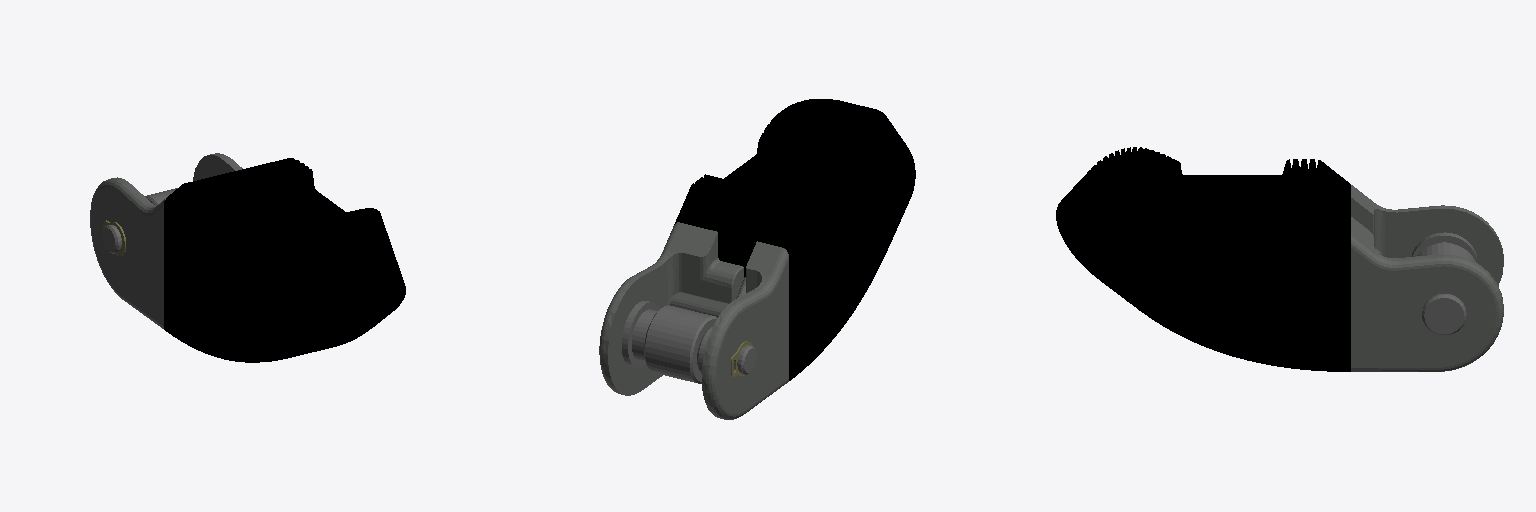
The model's file is if_distal.obj.
3 views of the same model, side by side, from view 1: azimuth 30°, elevation 25°; view 2: azimuth 150°, elevation 25°; view 3: azimuth 270°, elevation 25° (orthographic).
Parts seen in each view (by area): view 1: black_plastic, matte_metal, shiny_metal; view 2: black_plastic, matte_metal, shiny_metal; view 3: black_plastic, matte_metal, shiny_metal.
Boxes of the visible parts, <box> form: black_plastic: <box>164,158,405,362</box>; matte_metal: <box>90,153,242,328</box>; shiny_metal: <box>103,188,177,253</box>; black_plastic: <box>674,99,915,380</box>; matte_metal: <box>599,222,788,419</box>; shiny_metal: <box>622,277,756,383</box>; black_plastic: <box>1056,147,1350,371</box>; matte_metal: <box>1351,185,1503,371</box>; shiny_metal: <box>1412,232,1477,335</box>.
Size of the model in its own units: 20 by 26.5 by 60.06.